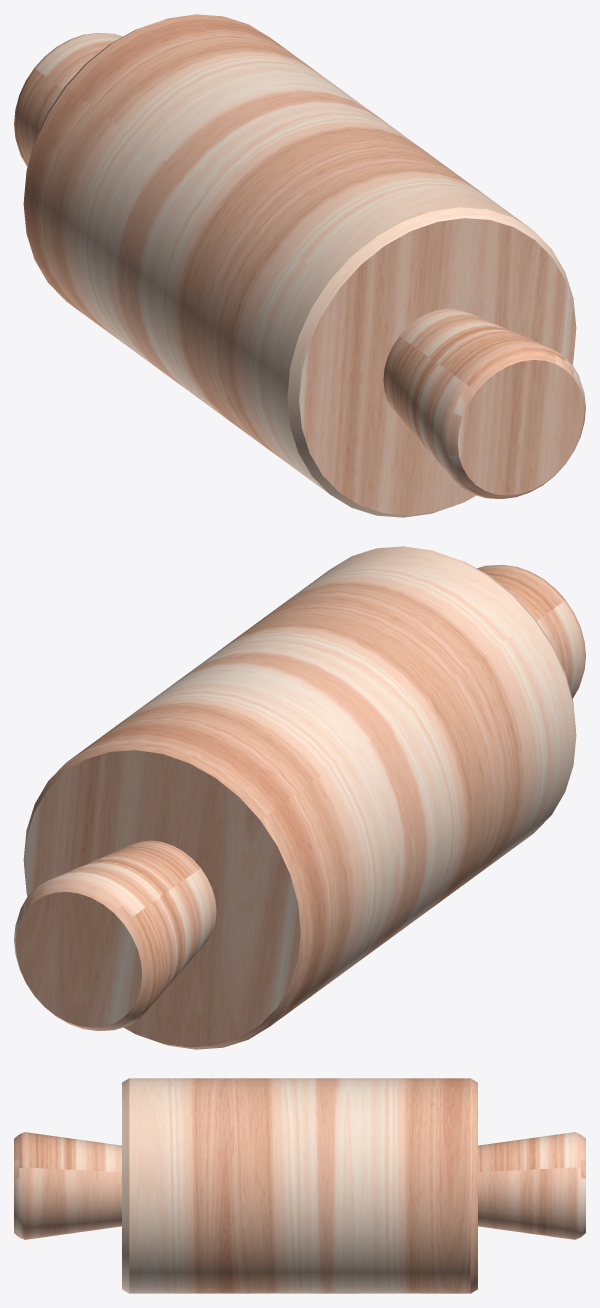
The model's file is kitchenItems.glb.
The picture shows the model from 3 angles, top to bottom: view 1: azimuth 30°, elevation 25°; view 2: azimuth 150°, elevation 25°; view 3: azimuth 270°, elevation 25°; orthographic projection. The views are drawn at different scales.
Parts seen in each view (by area): view 1: Cylinder.003; view 2: Cylinder.003; view 3: Cylinder.003.
Boxes of the visible parts, box(x1,y1,x2,y2) form: Cylinder.003: box(14, 14, 585, 517); Cylinder.003: box(14, 546, 585, 1049); Cylinder.003: box(14, 1078, 585, 1293).
Size of the model in its own units: 0.6096 by 0.6096 by 1.62.
Materials: 1 (1 with a texture image).
